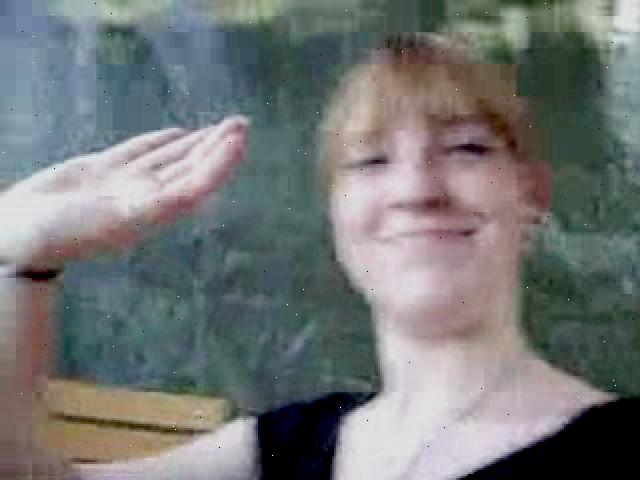T: (7, 35, 638, 476)
